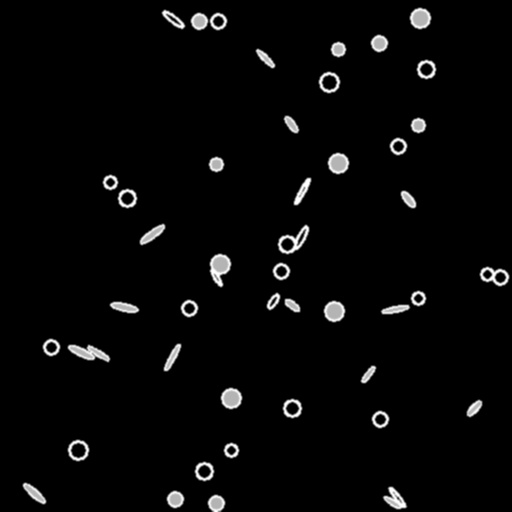pseudomonas: (138, 223, 166, 245), (22, 482, 46, 504), (163, 343, 181, 371), (293, 177, 311, 205), (161, 9, 185, 29), (387, 486, 407, 508), (86, 344, 110, 362), (68, 344, 94, 360), (255, 48, 275, 68), (293, 225, 309, 249), (399, 189, 417, 209), (110, 301, 138, 313), (465, 399, 483, 417), (360, 365, 376, 383), (283, 115, 299, 133), (381, 304, 409, 314), (383, 495, 401, 509), (266, 292, 280, 310), (209, 268, 223, 286), (284, 298, 300, 312)
synechocystis: (222, 389, 240, 407), (329, 154, 347, 172), (211, 255, 229, 273), (325, 302, 343, 320), (411, 9, 429, 27), (320, 73, 338, 91), (69, 441, 87, 459), (284, 400, 300, 416), (196, 463, 212, 479), (119, 190, 135, 206), (279, 236, 295, 252), (418, 61, 434, 77), (182, 301, 196, 315), (493, 270, 507, 284), (373, 412, 387, 426), (209, 496, 223, 510), (211, 14, 225, 28), (391, 139, 405, 153), (44, 340, 58, 354), (274, 264, 288, 278), (168, 492, 182, 506), (192, 14, 206, 28), (372, 36, 386, 50), (481, 268, 493, 280), (104, 176, 116, 188), (332, 43, 344, 55), (412, 292, 424, 304), (225, 444, 237, 456), (412, 119, 424, 131), (210, 158, 222, 170)
